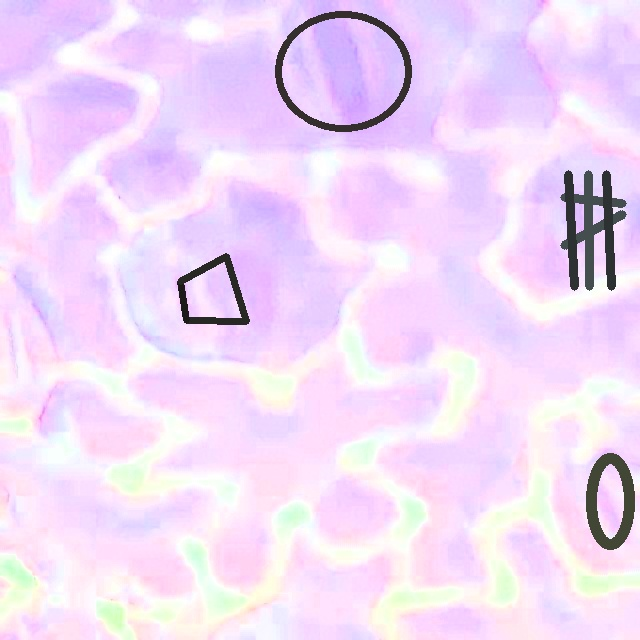close: (178, 254, 249, 323), (585, 453, 635, 549)
open: (275, 10, 411, 132), (561, 170, 625, 289)
